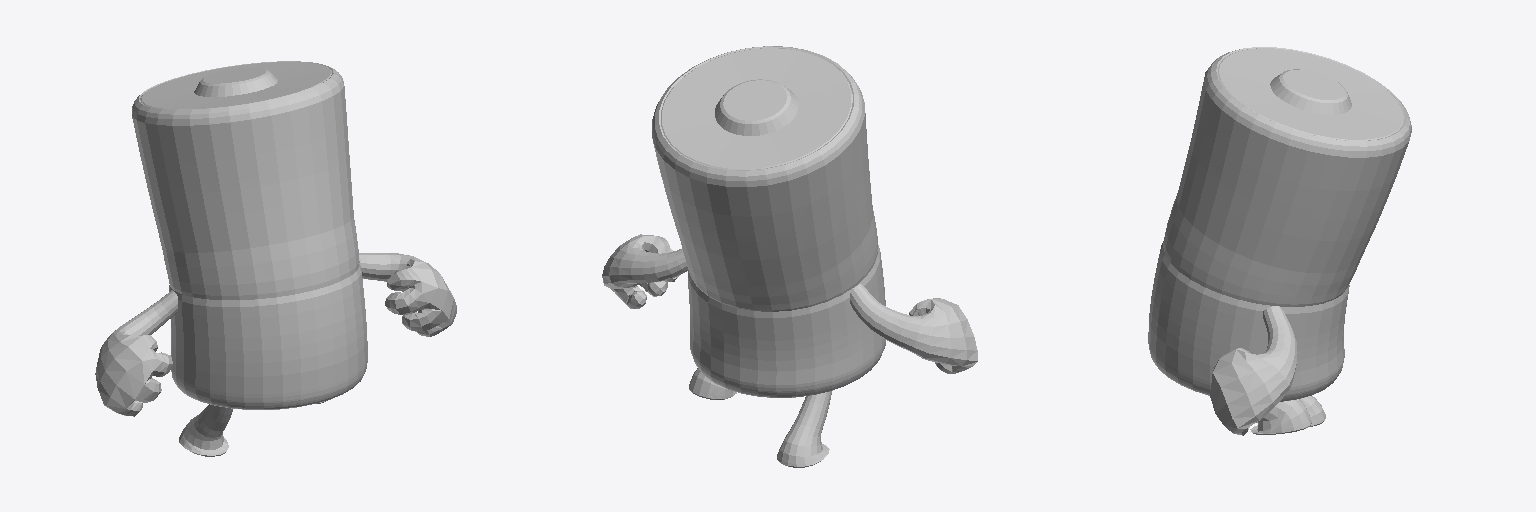
Rendered from boi-6.obj.
3 views of the same model, side by side, from view 1: azimuth 30°, elevation 25°; view 2: azimuth 150°, elevation 25°; view 3: azimuth 270°, elevation 25° (orthographic).
Visible parts, largest first — view 1: meshes_0; view 2: meshes_0; view 3: meshes_0.
Part boxes in pixels (bbox=[...]): meshes_0: bbox=[95, 61, 456, 456]; meshes_0: bbox=[602, 46, 977, 467]; meshes_0: bbox=[1148, 47, 1411, 435].
Bounding box in the file's own units: 127 × 123 × 80.27.